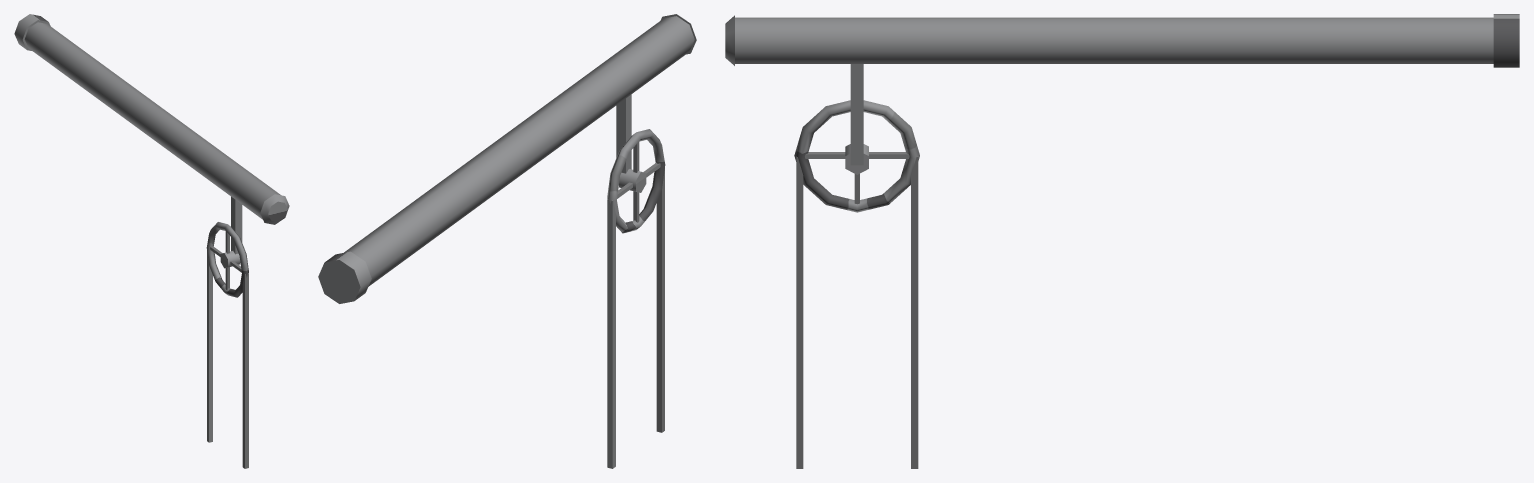
3 renders of one model, left to right at view 1: azimuth 30°, elevation 25°; view 2: azimuth 150°, elevation 25°; view 3: azimuth 270°, elevation 25°, orthographic. The views are drawn at different scales.
Size of the model in its own units: 0.174 by 1.55 by 2.42.
